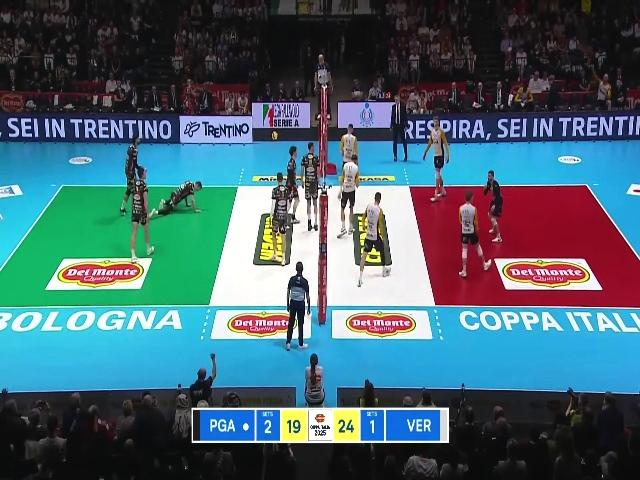volleyball court: (1, 183, 638, 309)
